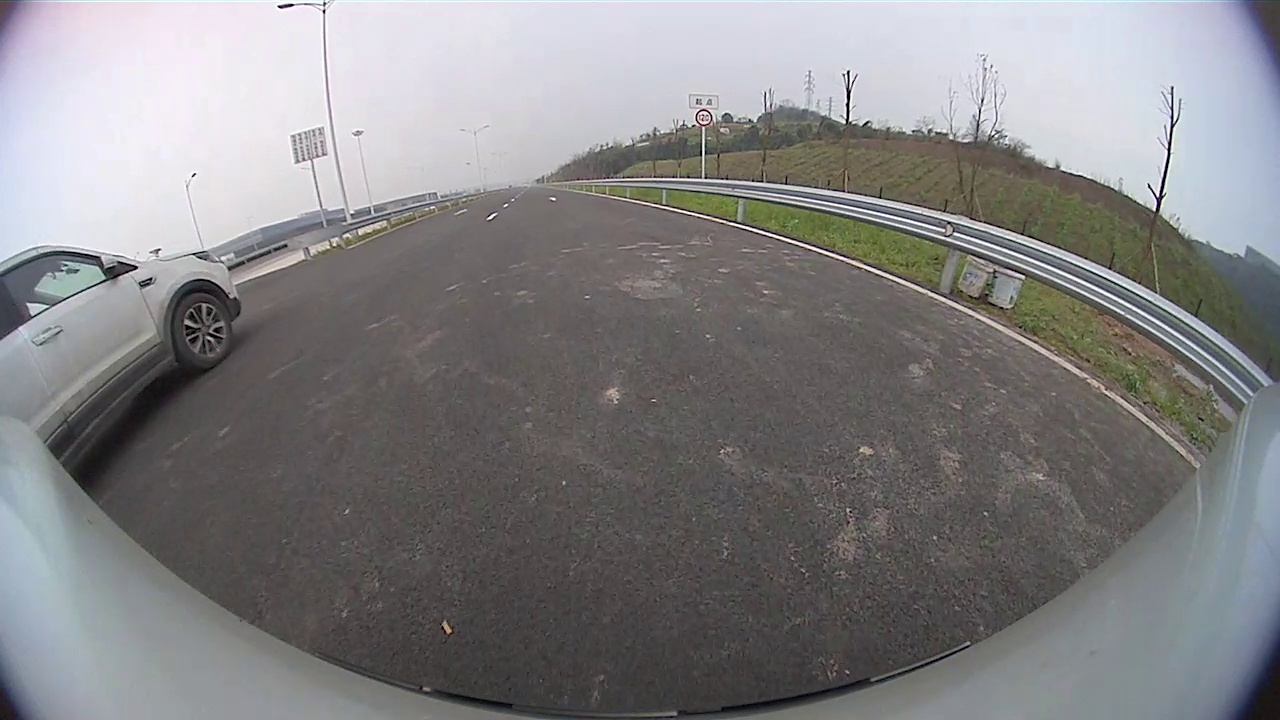car: (1, 245, 245, 505)
front: (170, 291, 234, 373)
